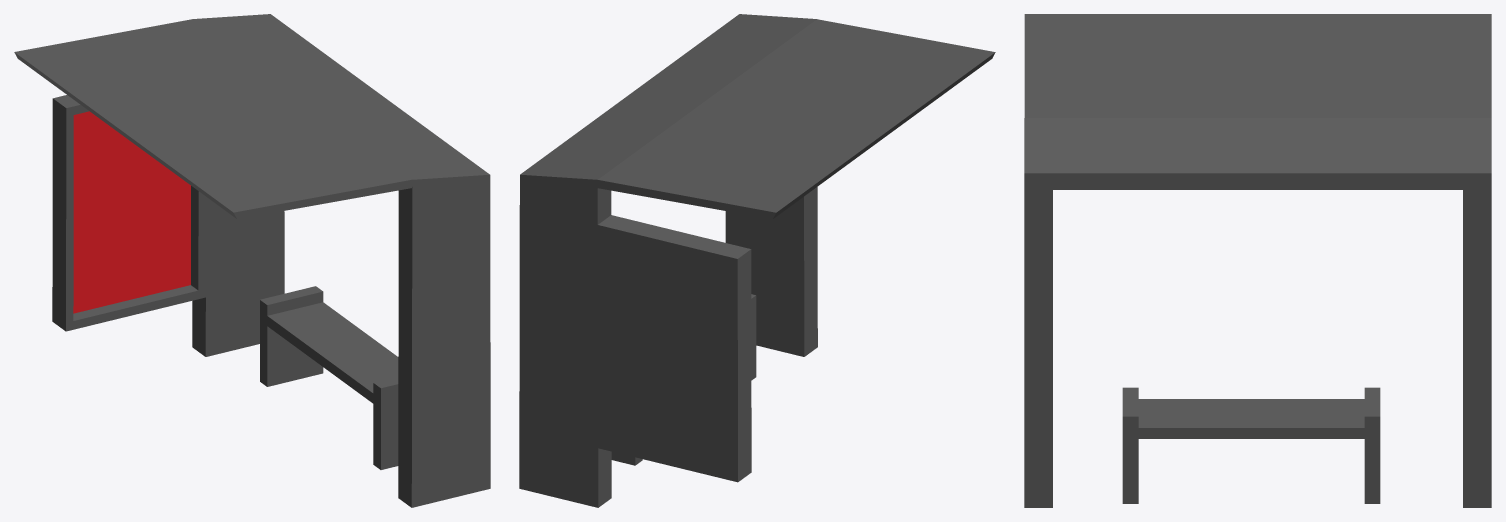
File: Остановка.fbx
3 views of the same model, side by side, from view 1: azimuth 30°, elevation 25°; view 2: azimuth 150°, elevation 25°; view 3: azimuth 270°, elevation 25° (orthographic). The views are drawn at different scales.
Parts seen in each view (by area): view 1: Cube.002; view 2: Cube.002; view 3: Cube.002.
Part boxes in pixels (x1=…): Cube.002: x1=14, y1=14, x2=490, y2=507; Cube.002: x1=519, y1=14, x2=995, y2=507; Cube.002: x1=1024, y1=14, x2=1491, y2=507.
Size of the model in its own units: 79.35 by 99.93 by 117.
